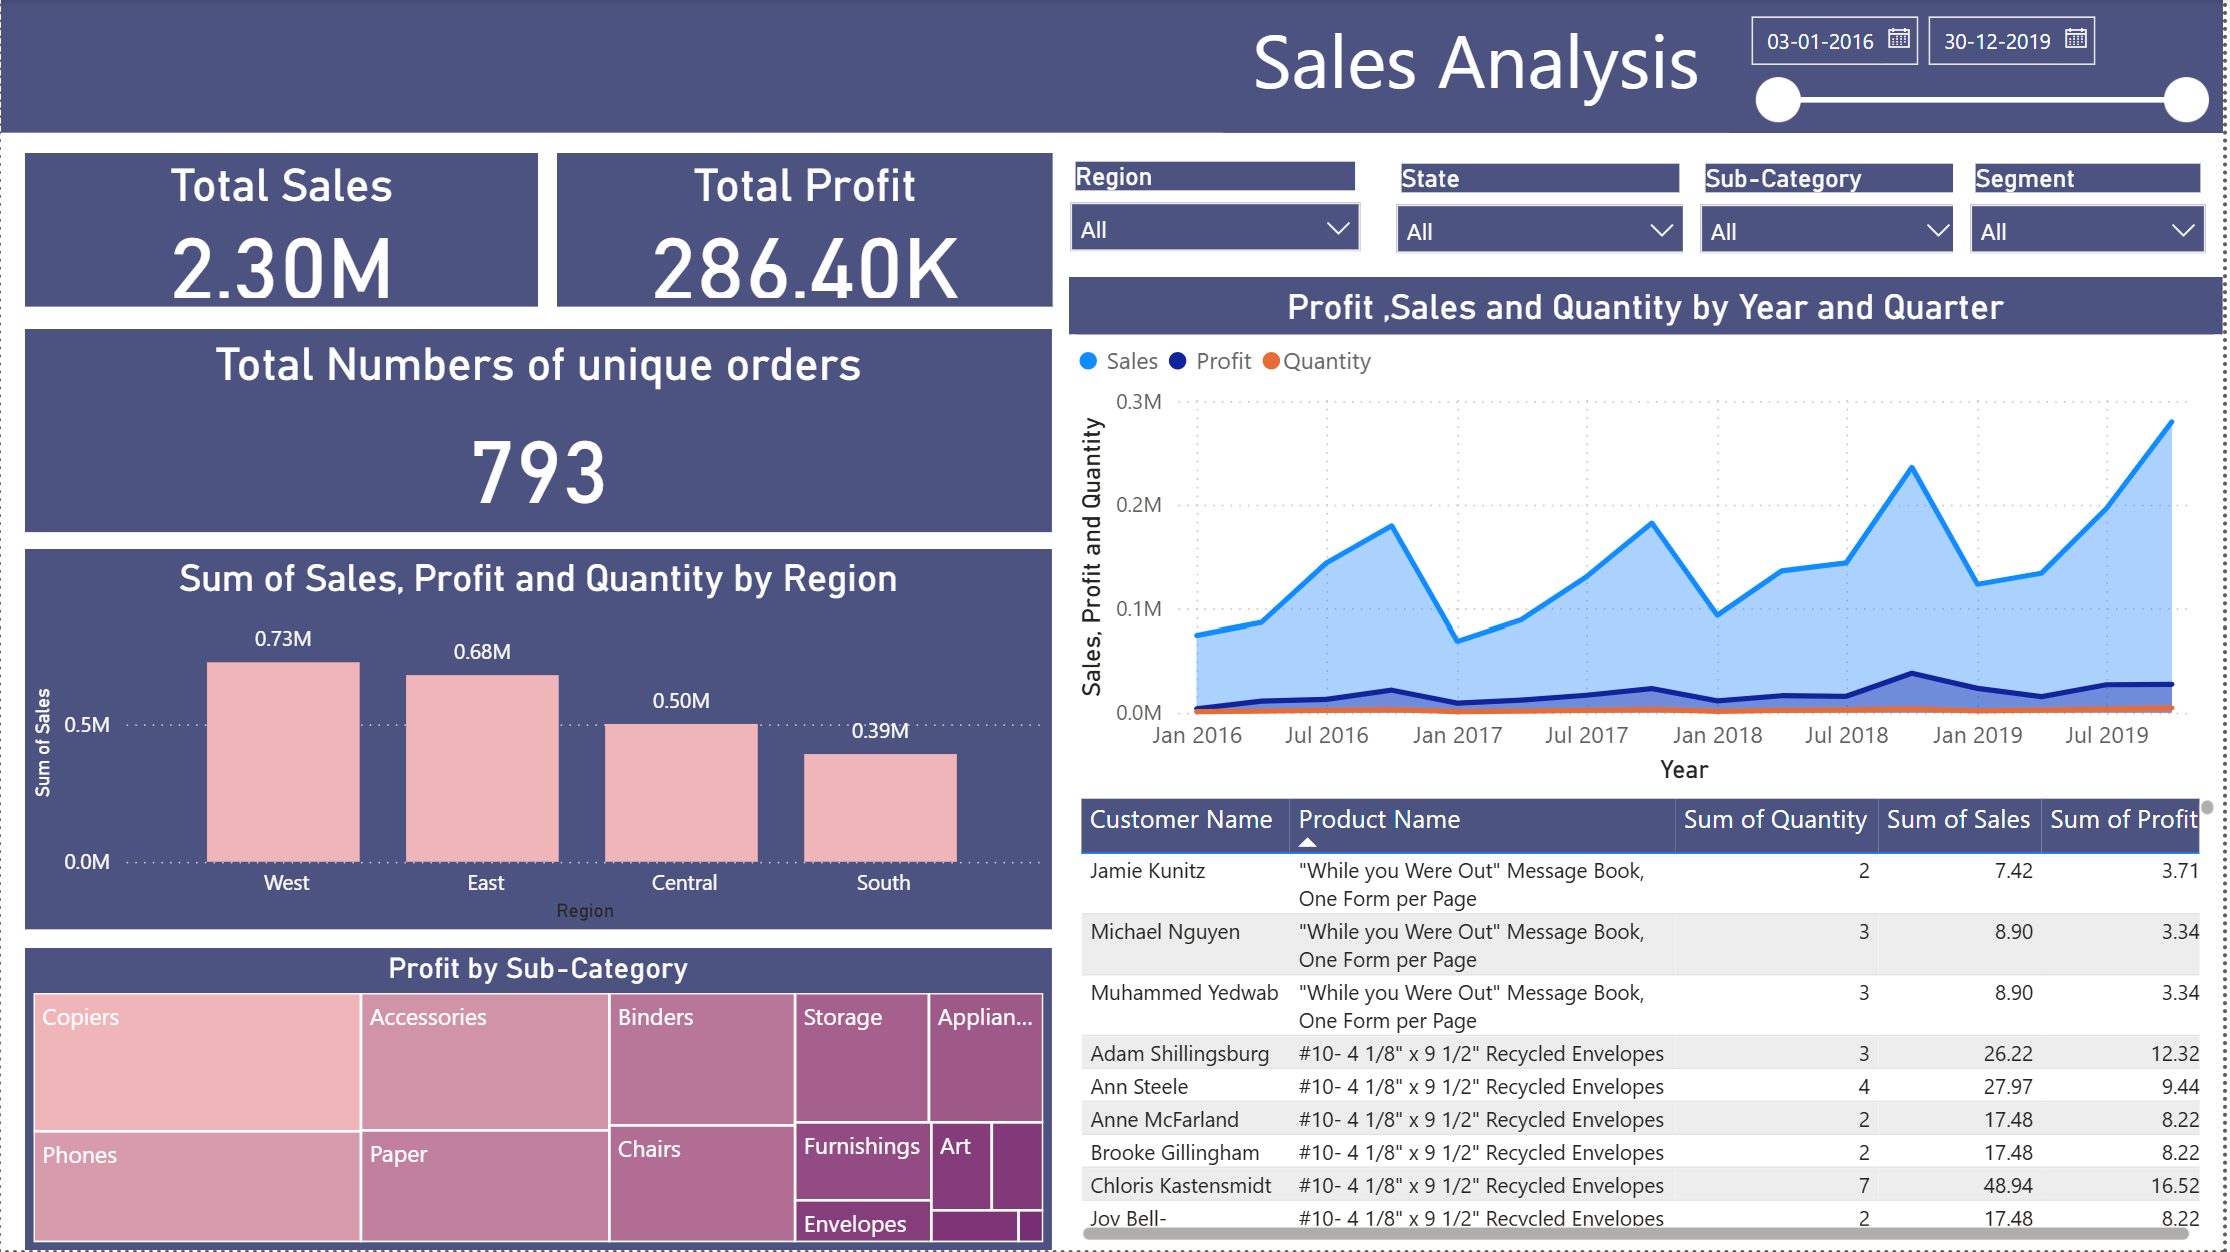

The dashboard page shown, as its layout file describes it:
{"tool":"powerbi","page":{"name":"Page 1","canvas":[1280,720],"ordinal":0},"visuals":[{"type":"card","title":"Total Sales","fields":{"Values":["Sheet1.Sales"]},"box":[14.3,88.6,295.7,88.6],"z":0},{"type":"card","title":"Total Profit","fields":{"Values":["Sheet1.Profit"]},"box":[320,88.6,285.7,88.6],"z":1000},{"type":"card","title":"Total Numbers of unique orders","fields":{"Values":["Sheet1.Customer ID"]},"box":[14.3,190,591.4,117.1],"z":2000},{"type":"columnChart","title":"Sum of Sales, Profit and Quantity by Region","fields":{"Category":["Sheet1.Region"],"Y":["Sheet1.Sales"]},"box":[14.3,317.1,591.4,218.6],"z":3000},{"type":"treemap","fields":{"Values":["Sheet1.Profit"],"Group":["Sheet1.Sub-Category"]},"box":[14.3,545.7,591.4,174.3],"z":4000},{"type":"textbox","box":[0,0,1280,77.1],"z":5000,"group":"g1"},{"type":"areaChart","title":"Profit ,Sales and Quantity by Year and Quarter","fields":{"Y":["Sheet1.Sales","Sheet1.Profit","Sheet1.Quantity"],"Category":["Sheet1.Order Date.Variation.Date Hierarchy.Year","Sheet1.Order Date.Variation.Date Hierarchy.Quarter"]},"box":[615.7,160,664.3,295.7],"z":5000},{"type":"tableEx","fields":{"Values":["Sheet1.Customer Name","Sheet1.Product Name","Sheet1.Quantity","Sheet1.Sales","Sheet1.Profit"]},"box":[616.3,455,663.8,265],"z":6000},{"type":"slicer","fields":{"Values":["Sheet1.Region"]},"box":[605.7,88.6,187.1,60],"z":7000},{"type":"slicer","fields":{"Values":["Sheet1.State"]},"box":[793.4,89.3,185.8,59],"z":8000},{"type":"slicer","fields":{"Values":["Sheet1.Sub-Category"]},"box":[969.1,89.3,169.9,59],"z":9000},{"type":"slicer","fields":{"Values":["Sheet1.Segment"]},"box":[1124.6,89.3,155.5,59],"z":10000},{"type":"group","id":"g1","title":"Group 1","box":[0,0,1280,77.1],"z":11000},{"type":"textbox","box":[704.3,0,291.4,77.1],"z":12000},{"type":"slicer","fields":{"Values":["Sheet1.Order Date"]},"box":[995.4,0,284.6,77.1],"z":12000,"group":"g1"}]}

Visuals, with their boxes in screenshot pixels (x1, y1, x2, y2), scaled from the page's 1280x720 canvas onto the 2230x1252 screenshot:
"Total Sales" card: box(25, 154, 540, 308)
"Total Profit" card: box(558, 154, 1055, 308)
"Total Numbers of unique orders" card: box(25, 330, 1055, 534)
"Sum of Sales, Profit and Quantity by Region" columnChart: box(25, 551, 1055, 932)
treemap - Sheet1.Profit x Sheet1.Sub-Category: box(25, 949, 1055, 1251)
textbox: box(0, 0, 2229, 134)
"Profit ,Sales and Quantity by Year and Quarter" areaChart: box(1073, 278, 2229, 792)
tableEx - Sheet1.Customer Name x Sheet1.Product Name: box(1074, 791, 2229, 1251)
slicer - Sheet1.Region: box(1055, 154, 1381, 258)
slicer - Sheet1.State: box(1382, 155, 1706, 258)
slicer - Sheet1.Sub-Category: box(1688, 155, 1984, 258)
slicer - Sheet1.Segment: box(1959, 155, 2229, 258)
"Group 1" group: box(0, 0, 2229, 134)
textbox: box(1227, 0, 1735, 134)
slicer - Sheet1.Order Date: box(1734, 0, 2229, 134)
